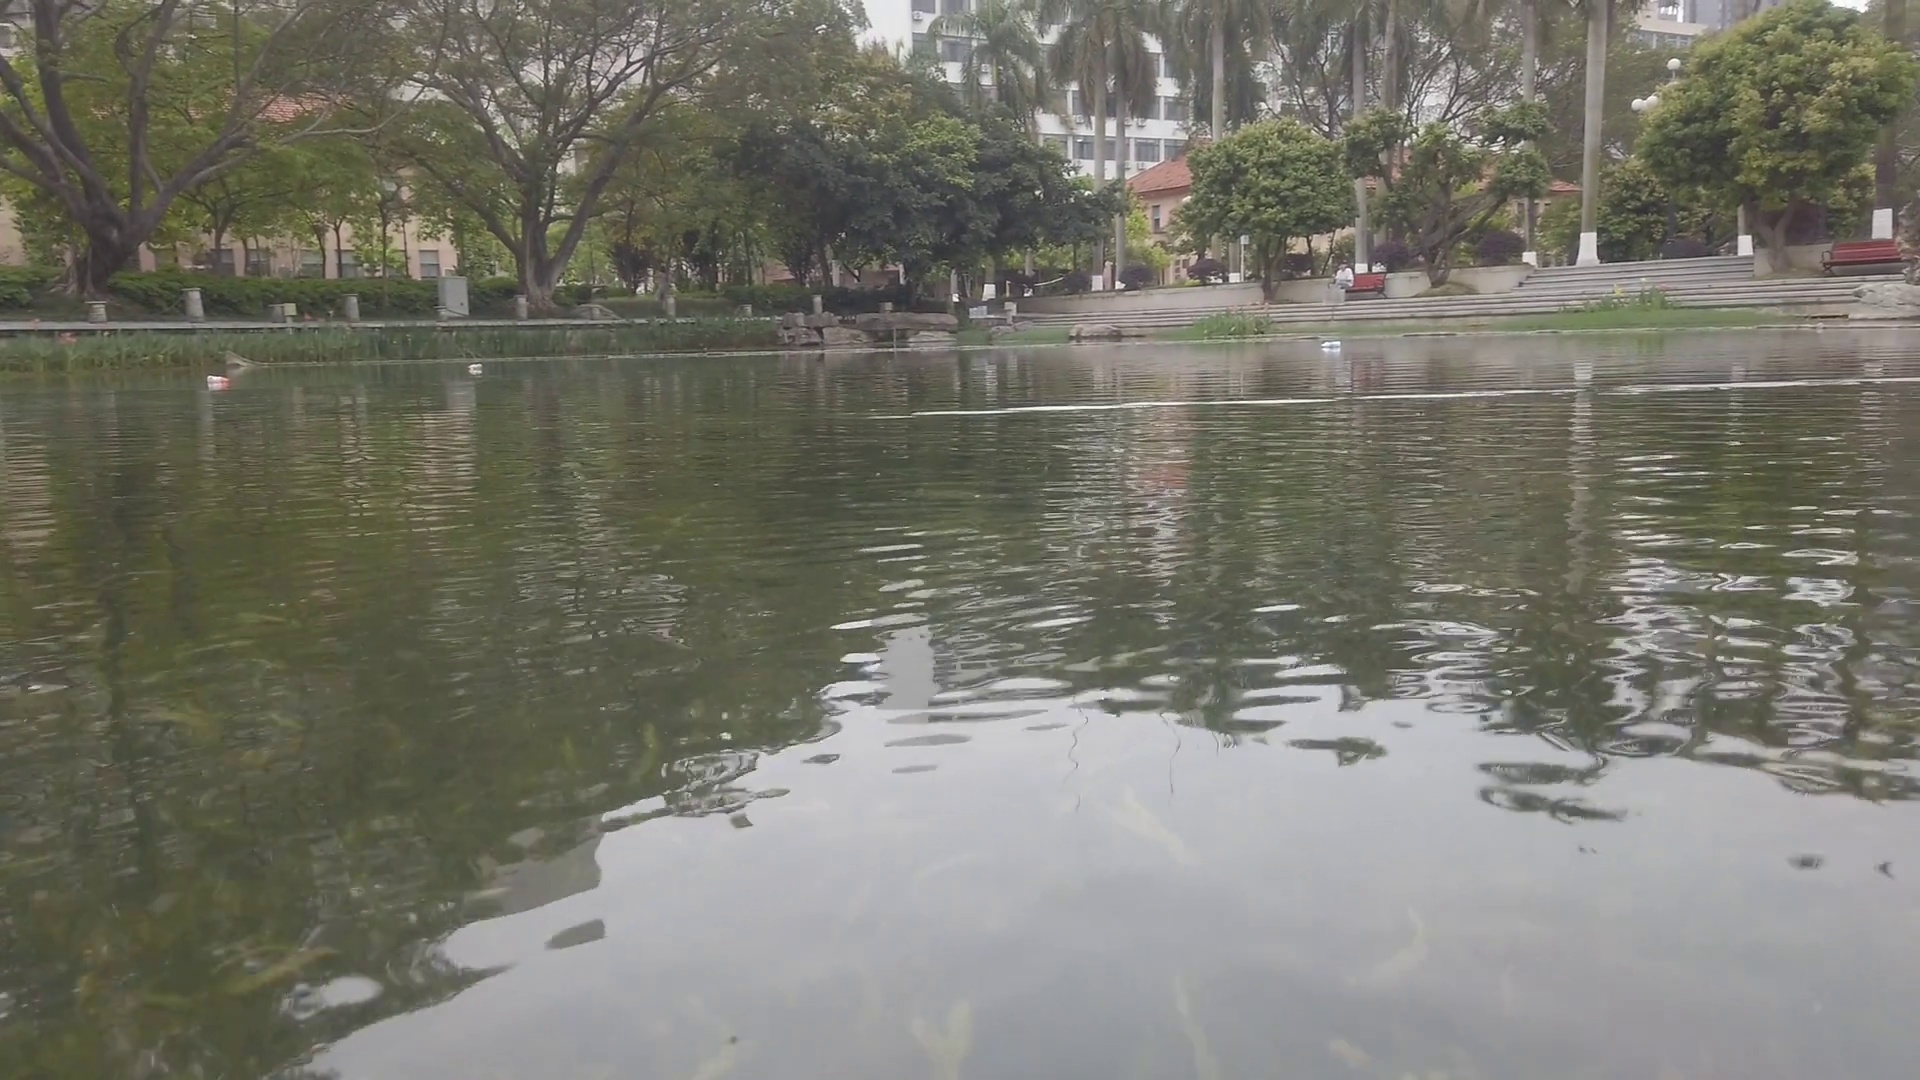bottle: (207, 375, 229, 386), (467, 364, 485, 371), (1323, 342, 1345, 347)
